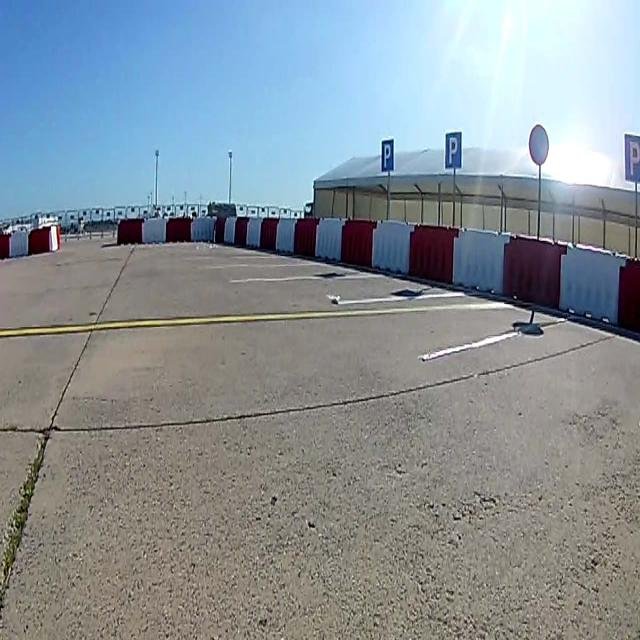park: (624, 134, 640, 180), (446, 132, 462, 168), (381, 140, 393, 172)
parkyasak: (529, 126, 549, 166)
